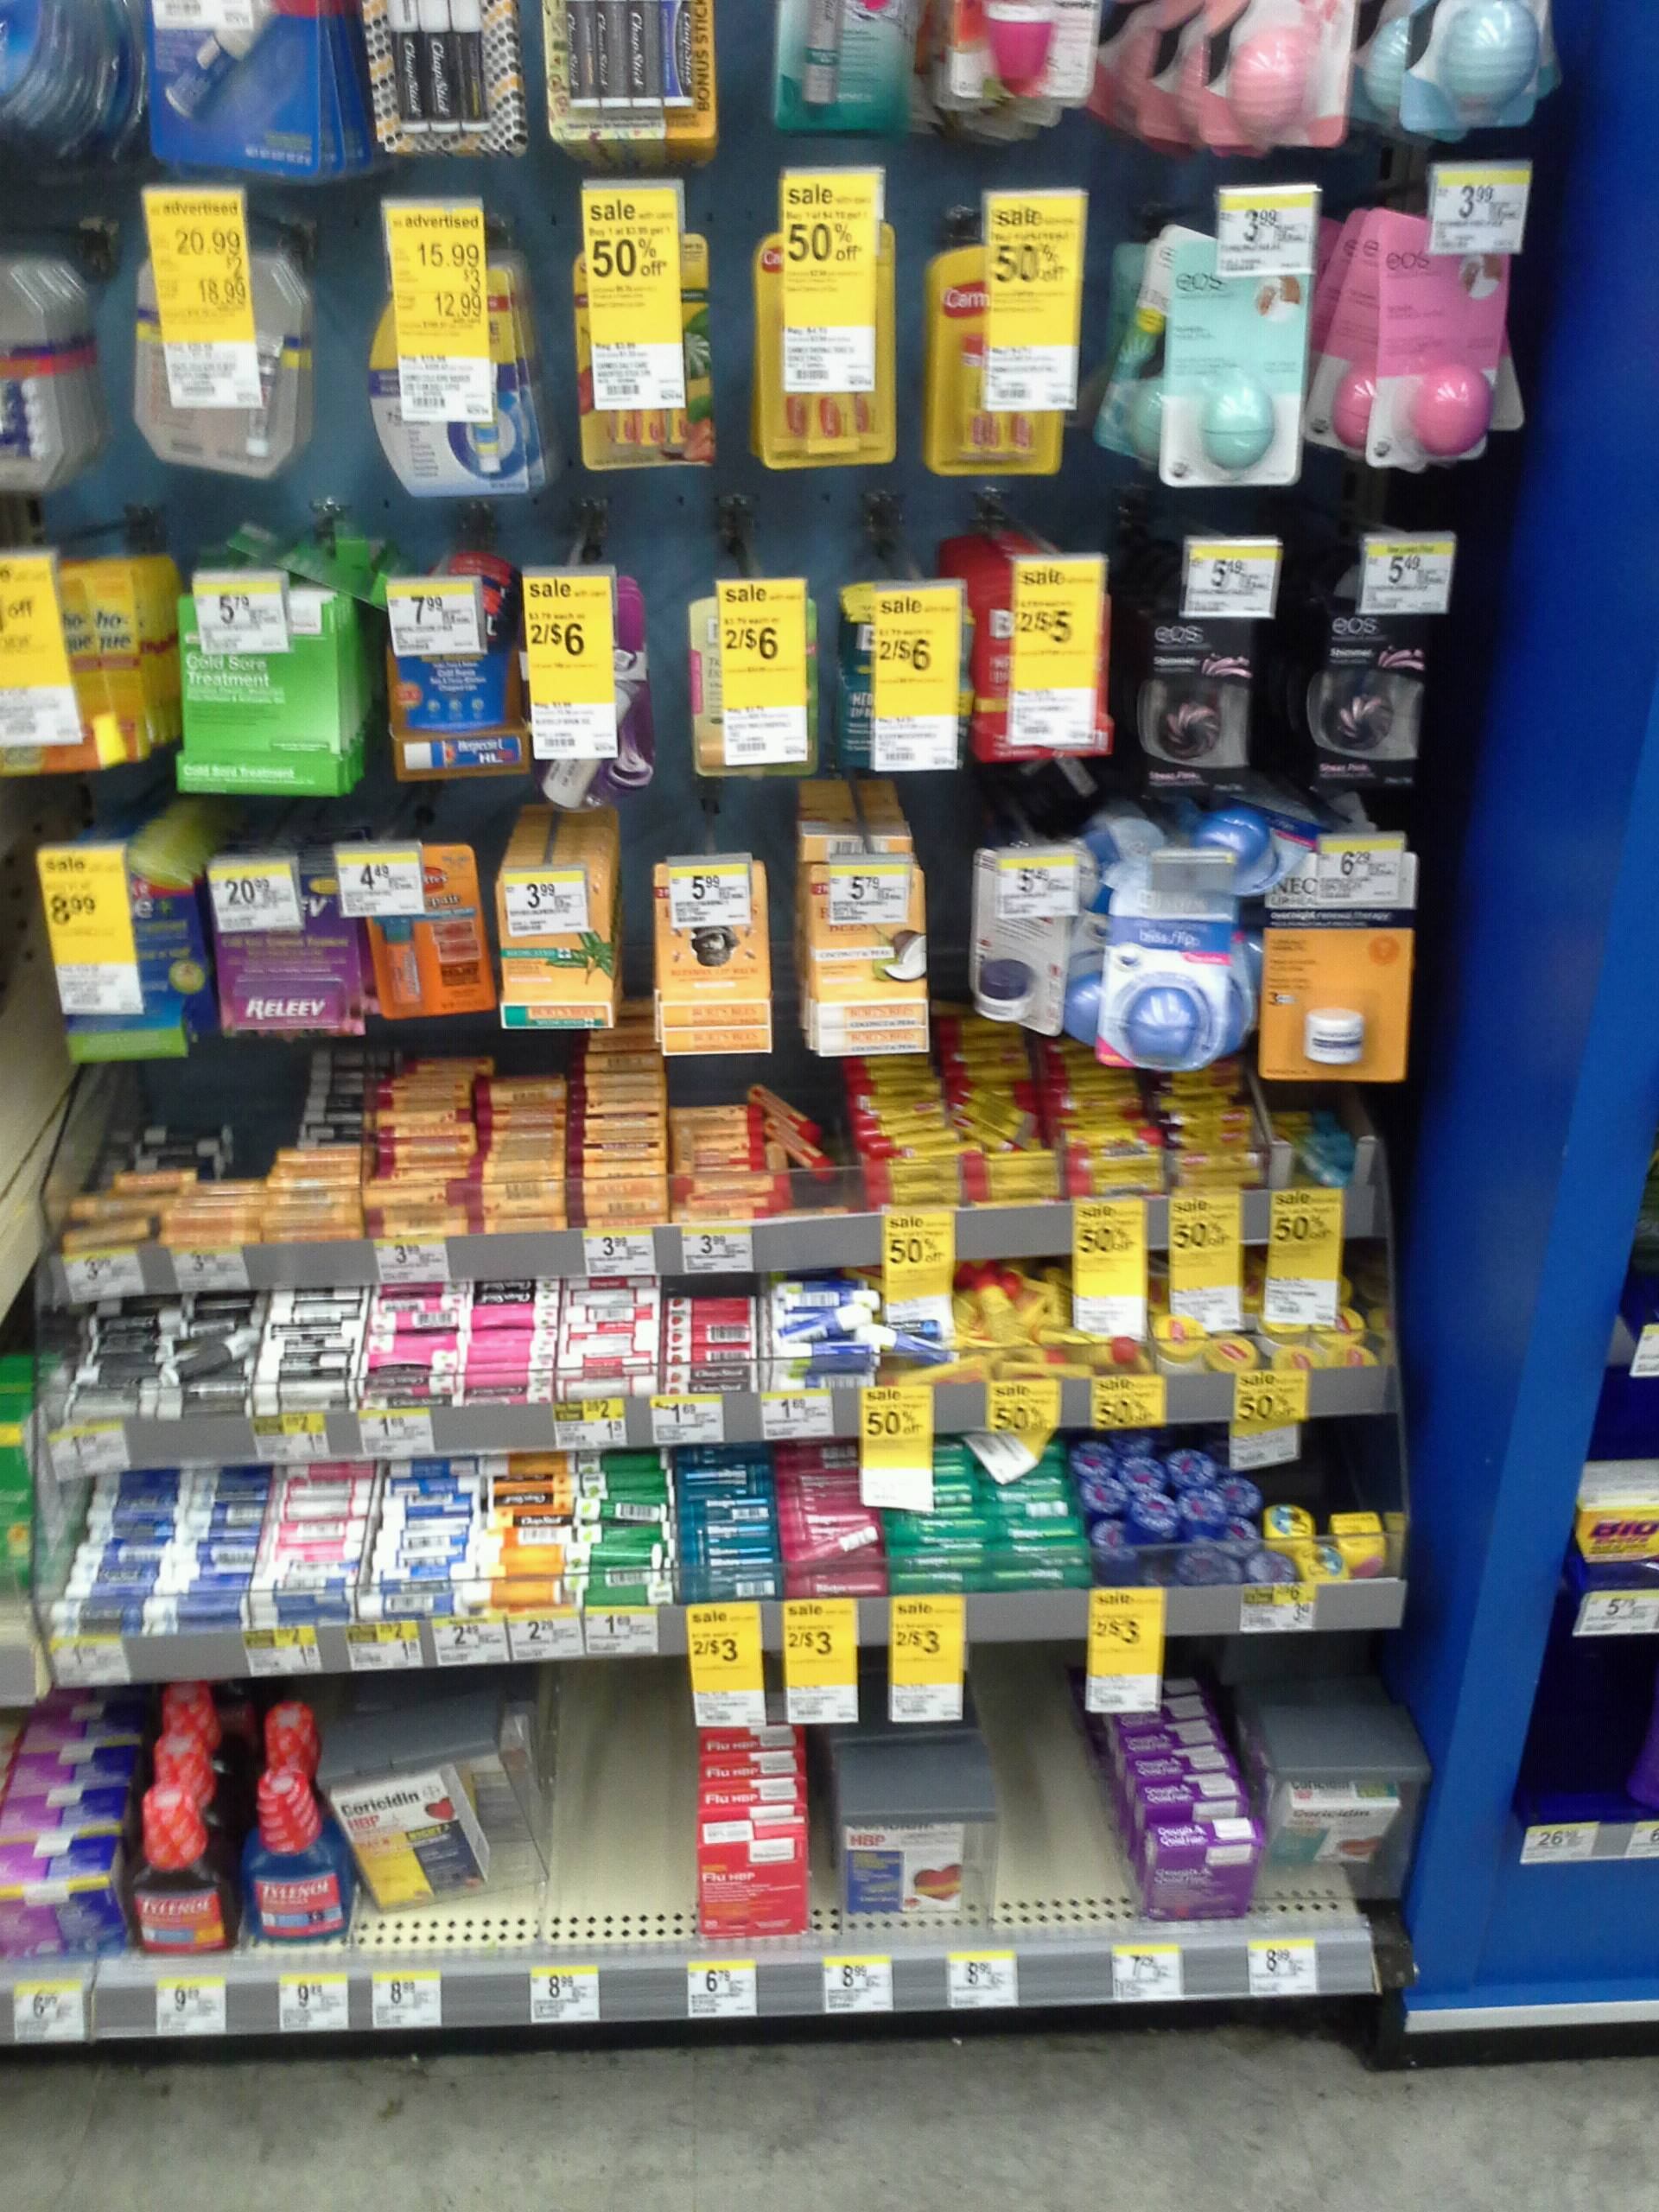Out-of-stock: (533, 1655, 697, 1942)
